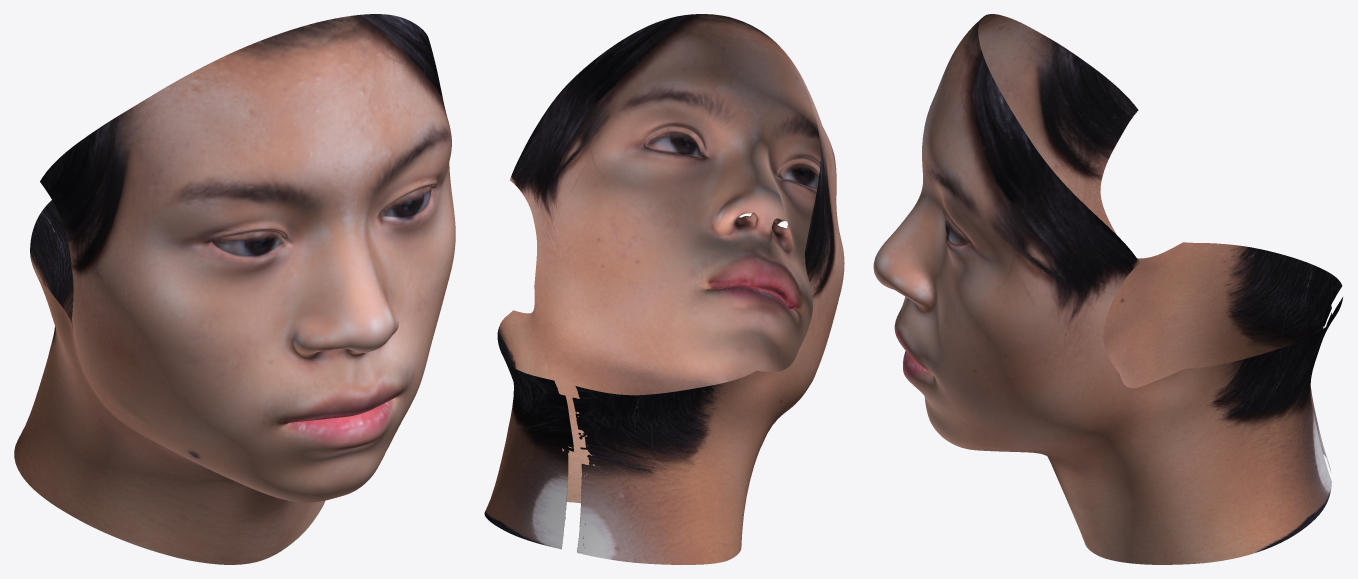
The model's file is AdobeMaleWNoTexture.fbx.
3 views of the same model, side by side, from view 1: azimuth 30°, elevation 25°; view 2: azimuth 150°, elevation 25°; view 3: azimuth 270°, elevation 25° (orthographic). The views are drawn at different scales.
Visible parts, largest first — view 1: FBHead; view 2: FBHead; view 3: FBHead.
Part boxes in pixels (x1,y1,x2,y2): FBHead: [14, 14, 455, 564]; FBHead: [484, 14, 844, 564]; FBHead: [873, 14, 1342, 564].
Bounding box in the file's own units: 145 × 222 × 186.
Materials: 1 (1 with a texture image).
